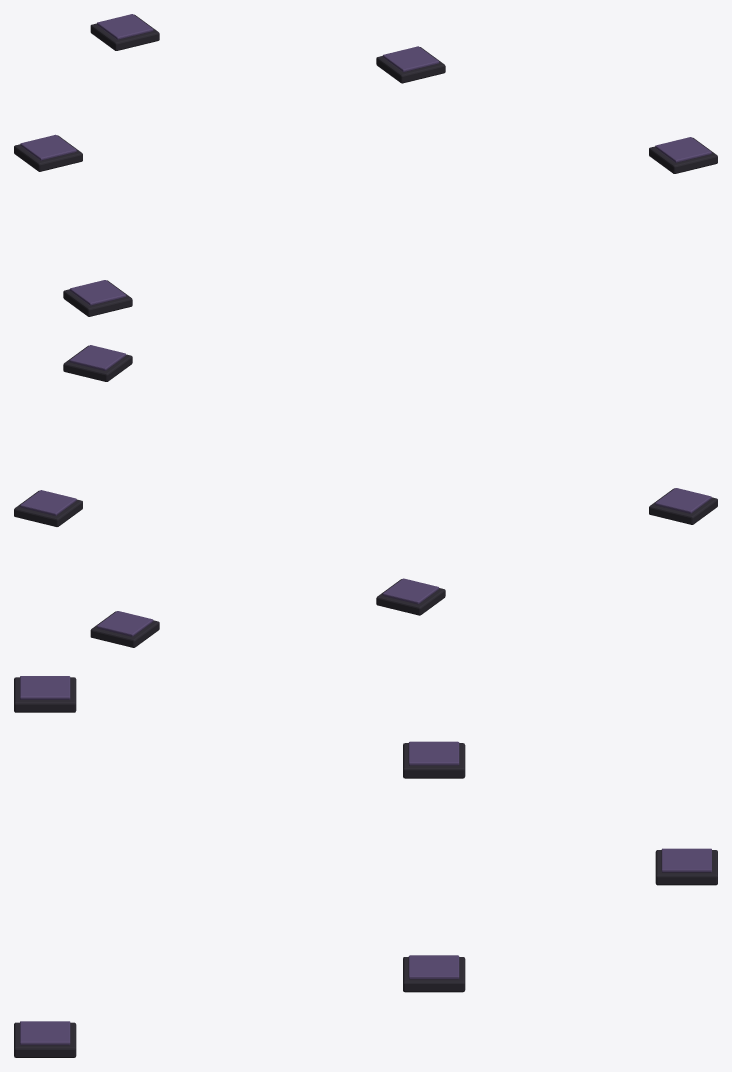
Rendered from EggPedestals.fbx.
3 renders of one model, top to bottom at view 1: azimuth 30°, elevation 25°; view 2: azimuth 150°, elevation 25°; view 3: azimuth 270°, elevation 25°, orthographic. The views are drawn at different scales.
Parts seen in each view (by area): view 1: Pedestal0.001; view 2: Pedestal0.001; view 3: Pedestal0.001.
Part boxes in pixels (x1,y1,x2,y2): Pedestal0.001: [14, 14, 717, 316]; Pedestal0.001: [14, 345, 717, 647]; Pedestal0.001: [14, 676, 717, 1057].
Size of the model in its own units: 9040 by 160 by 7240.
